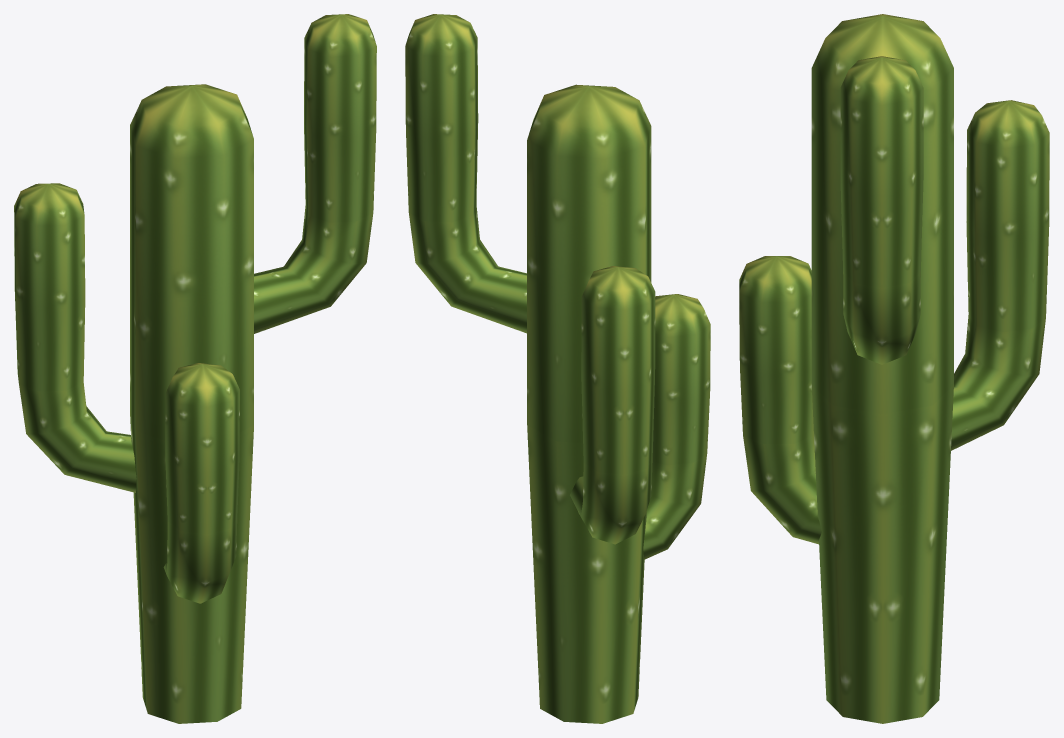
Rendered from xianrenzhang01.FBX.
3 views of the same model, side by side, from view 1: azimuth 30°, elevation 25°; view 2: azimuth 150°, elevation 25°; view 3: azimuth 270°, elevation 25° (orthographic). The views are drawn at different scales.
Visible parts, largest first — view 1: xianrenzhang01; view 2: xianrenzhang01; view 3: xianrenzhang01.
Part boxes in pixels (<box>): xianrenzhang01: <box>14,14,376,723</box>; xianrenzhang01: <box>405,14,710,723</box>; xianrenzhang01: <box>739,14,1049,723</box>.
Bounding box in the file's own units: 139 × 290 × 113.
